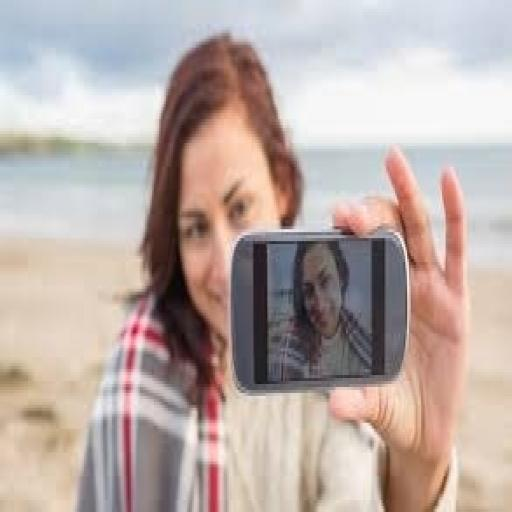texting: (70, 27, 470, 509)
